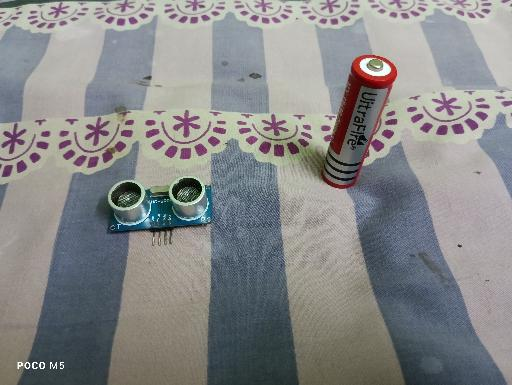Battery: (321, 54, 397, 189)
sensor: (108, 176, 214, 246)
